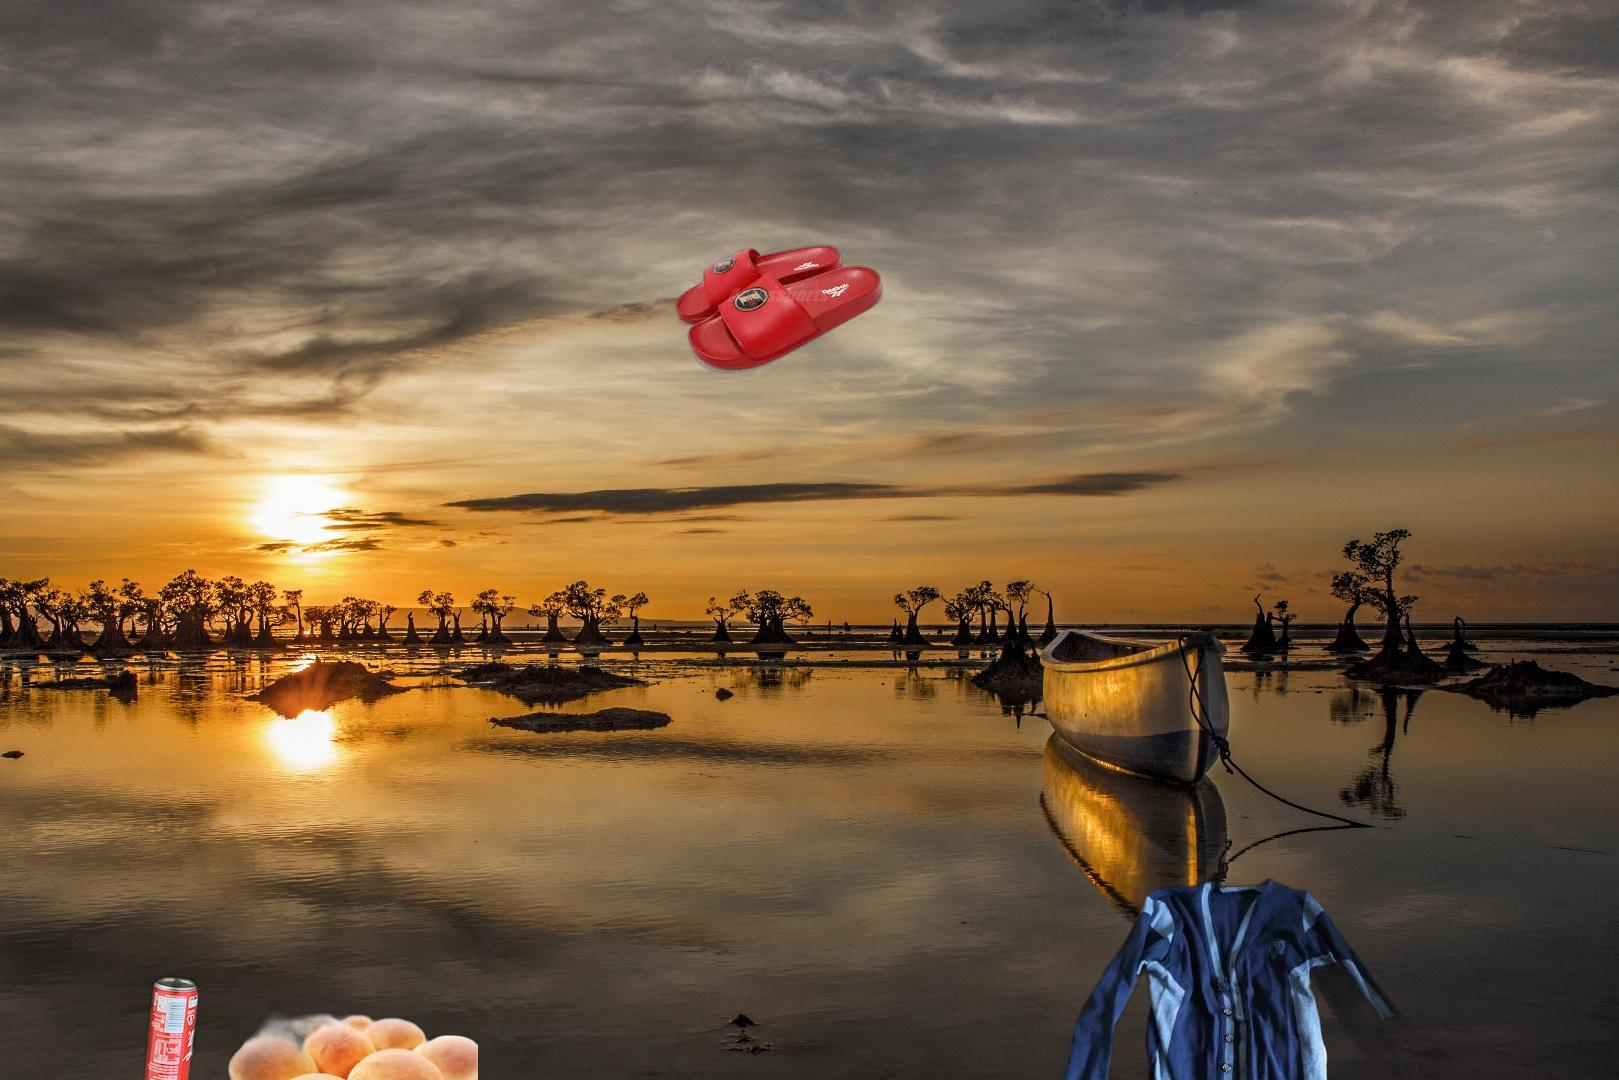biological: (219, 996, 479, 1080)
clothes: (1051, 875, 1451, 1080)
metal-cans: (137, 972, 204, 1080)
shoes: (671, 242, 885, 375)
